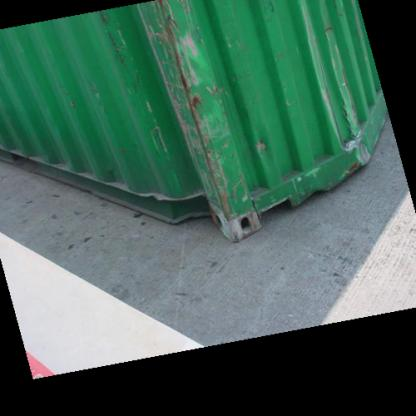Damage: (146, 5, 240, 217), (308, 11, 366, 165), (56, 75, 102, 109), (254, 138, 275, 164)
